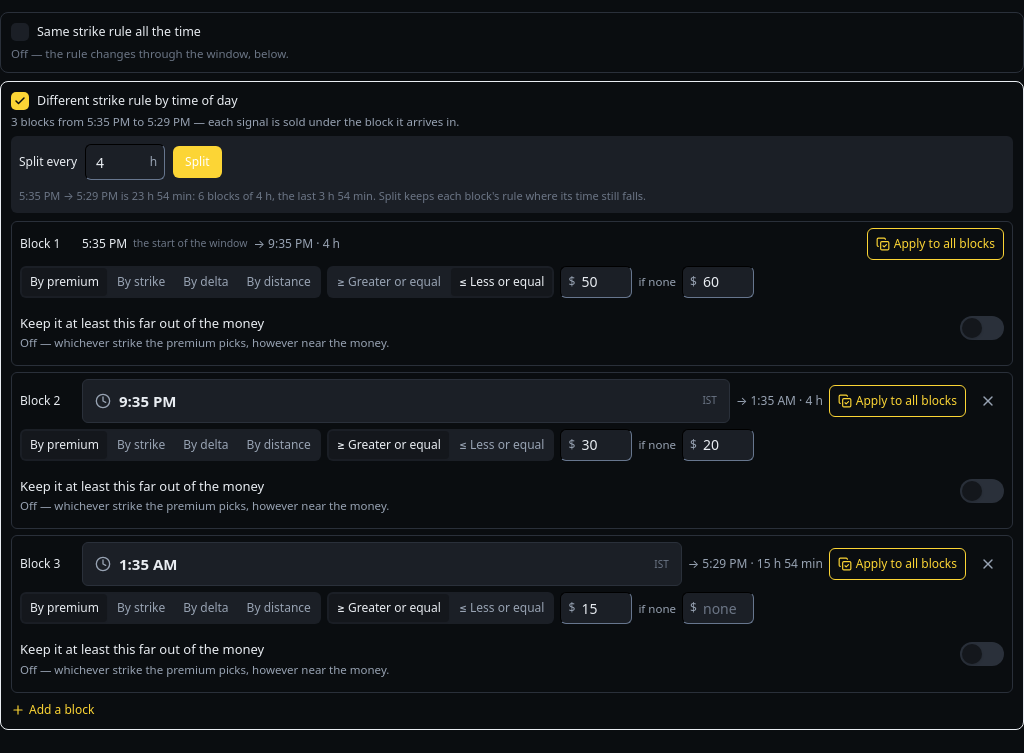
Test case: StrikeBlocksEditor: apply to all blocks › [critical] one click copies a block's premium, its sign and its "if none" onto every block, and says so
Step 1. Click the button with aria-label "apply block 1 to all 3 blocks" → (935, 244), box [867,228,1004,260]
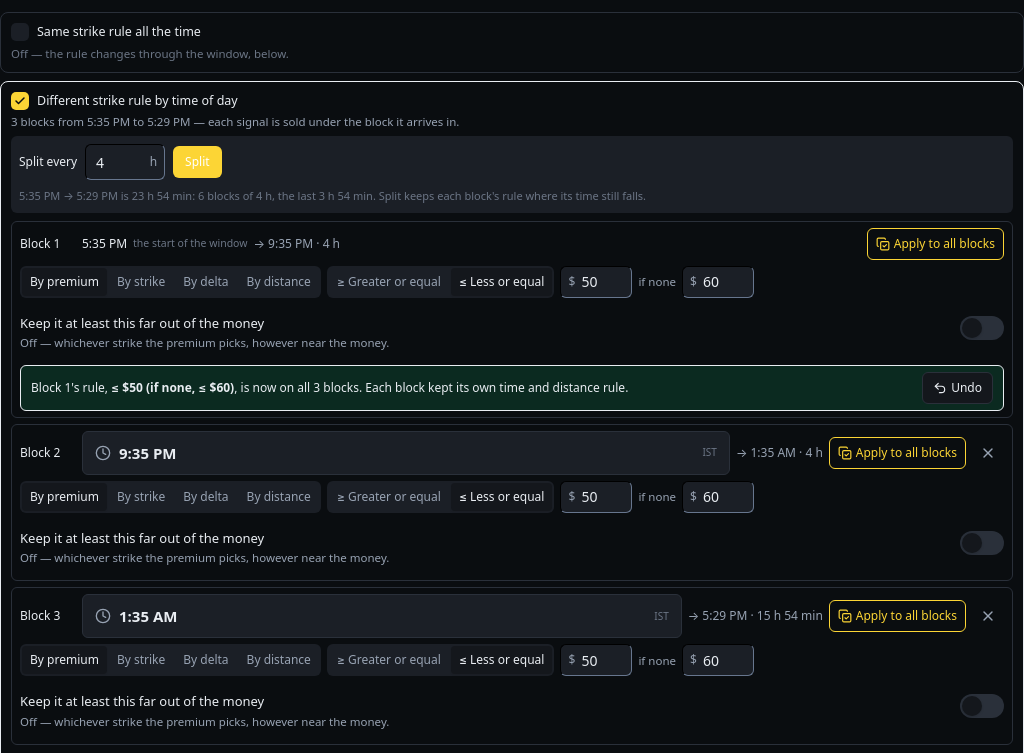
Expected: the text "≤ Less or equal" below "the start of the window" is shown, [459,273,544,290]
Result: the message shows "Block 1's rule, ≤ $50 (if none, ≤ $60), is now on all 3 blocks. Each block kept its own time and distance rule." at [20,365,1004,411]
